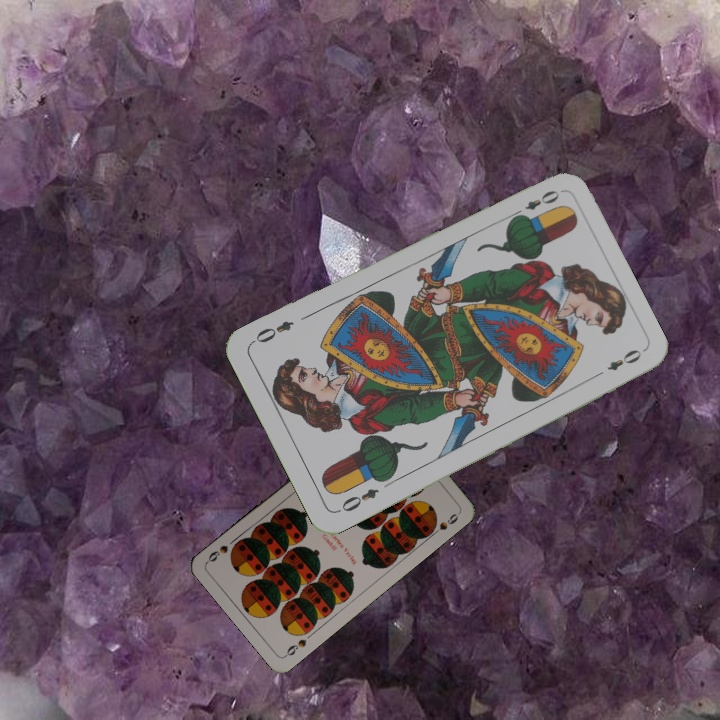EO: (508, 186, 563, 221), (333, 484, 382, 516)
S9: (281, 635, 309, 660)
